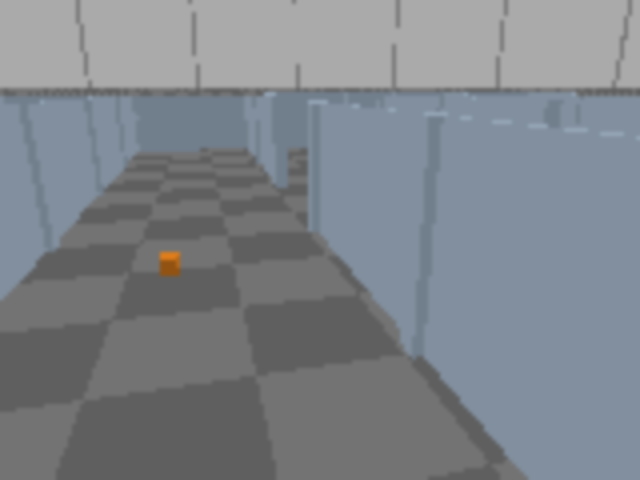puck: (158, 252, 181, 278)
